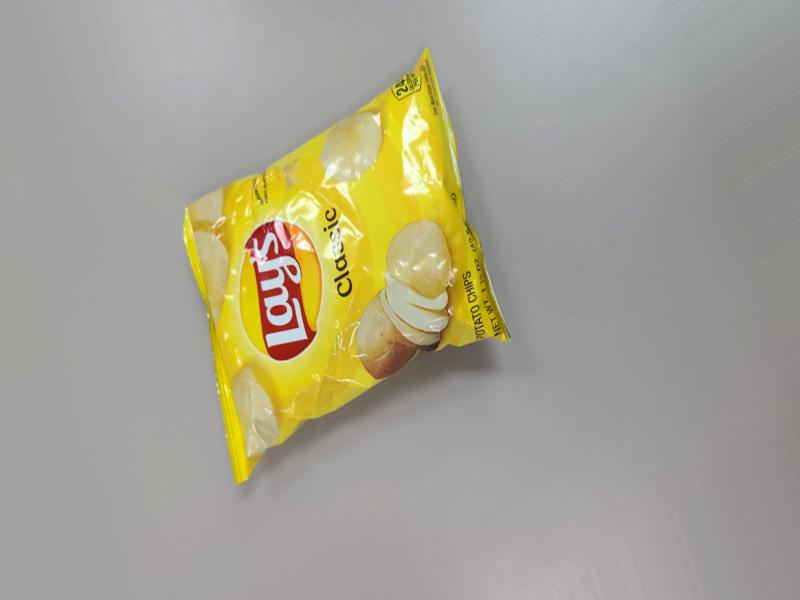lays: (167, 45, 517, 460)
